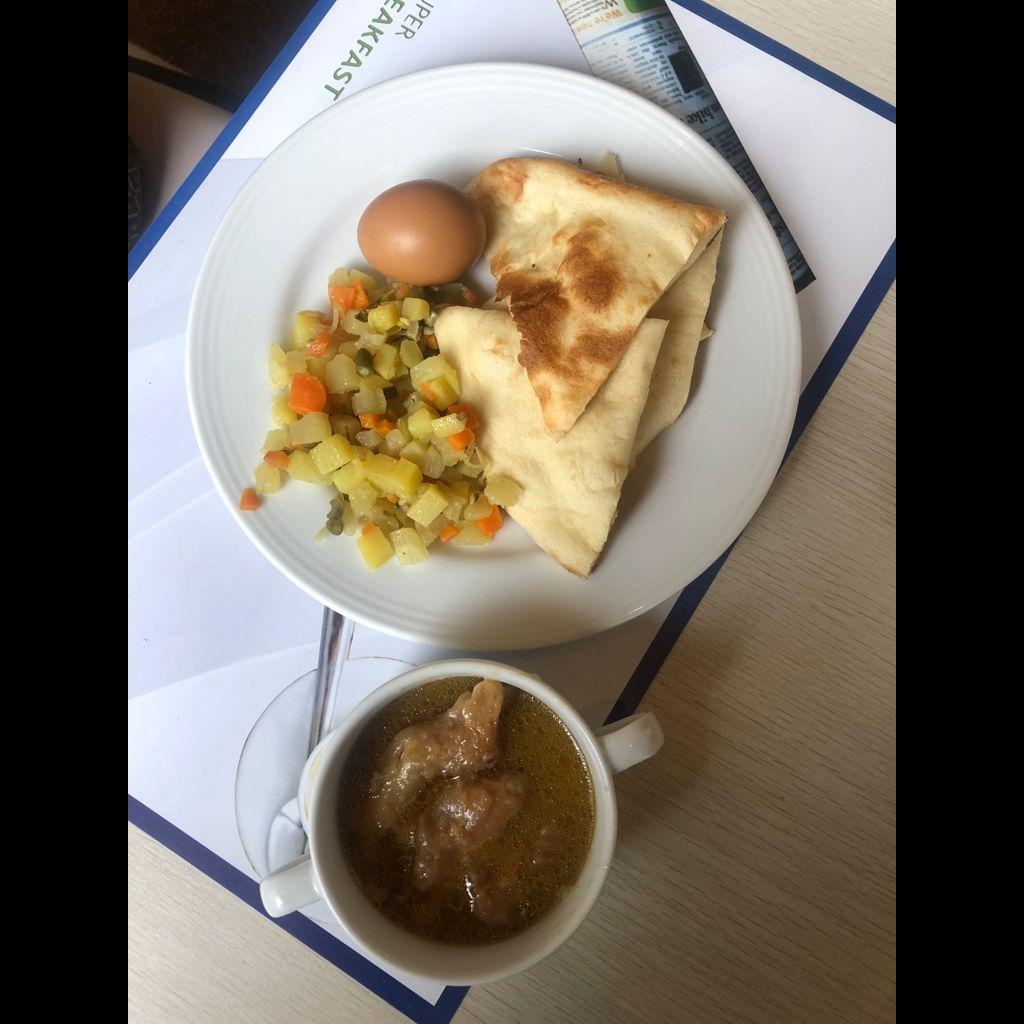chicken: (338, 682, 598, 938)
egg: (356, 178, 488, 285)
khichuri: (243, 272, 520, 576)
ruti: (434, 157, 724, 578)
